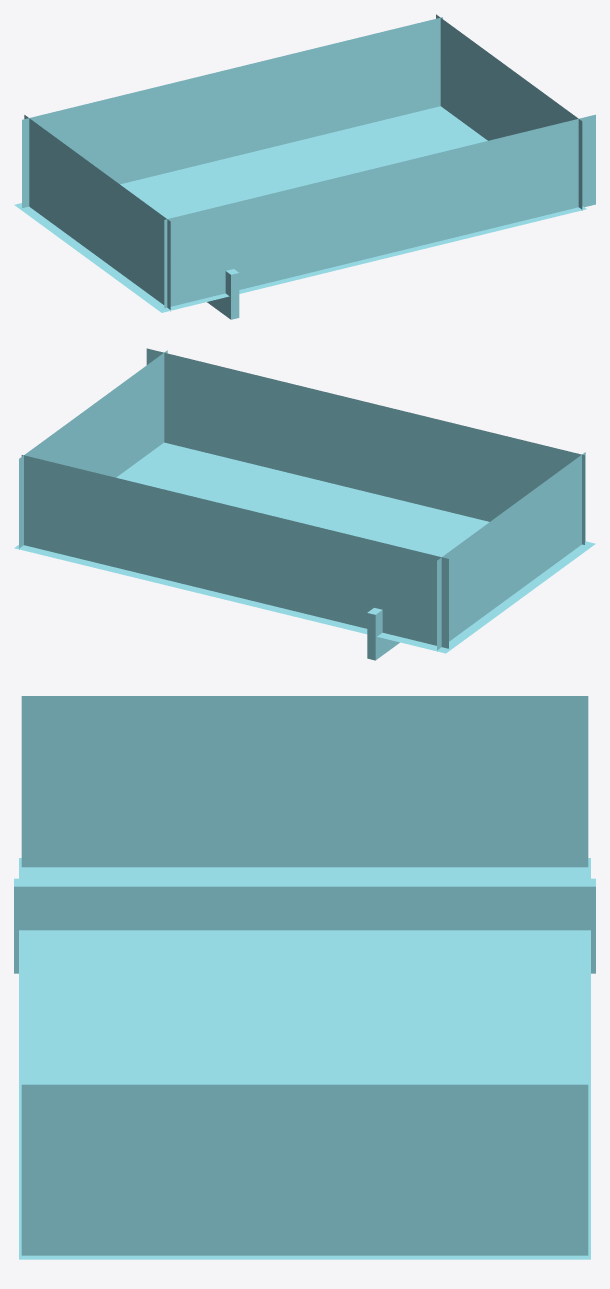
Rendered from map.obj.
3 renders of one model, top to bottom at view 1: azimuth 30°, elevation 25°; view 2: azimuth 150°, elevation 25°; view 3: azimuth 270°, elevation 25°, orthographic. The views are drawn at different scales.
Visible parts, largest first — view 1: Back_Wall.2; view 2: Back_Wall.2; view 3: Back_Wall.2.
Boxes of the visible parts, x1=… form: Back_Wall.2: x1=14, y1=14, x2=595, y2=319; Back_Wall.2: x1=14, y1=348, x2=595, y2=660; Back_Wall.2: x1=14, y1=696, x2=595, y2=1259.
Size of the model in its own units: 79.98 by 19.35 by 47.53.
